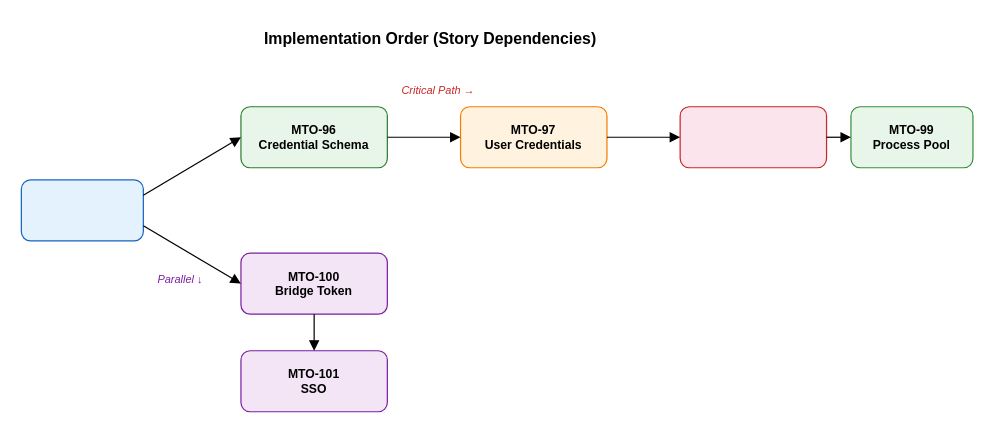
This 994x433 diagram has some shape labels left out. The centre of each missing label's shape, as x and y in pixels:
"MTO-95 JWT Auth" belongs at (x=81, y=210).
"MTO-98 Credential Resolver" belongs at (x=753, y=137).
